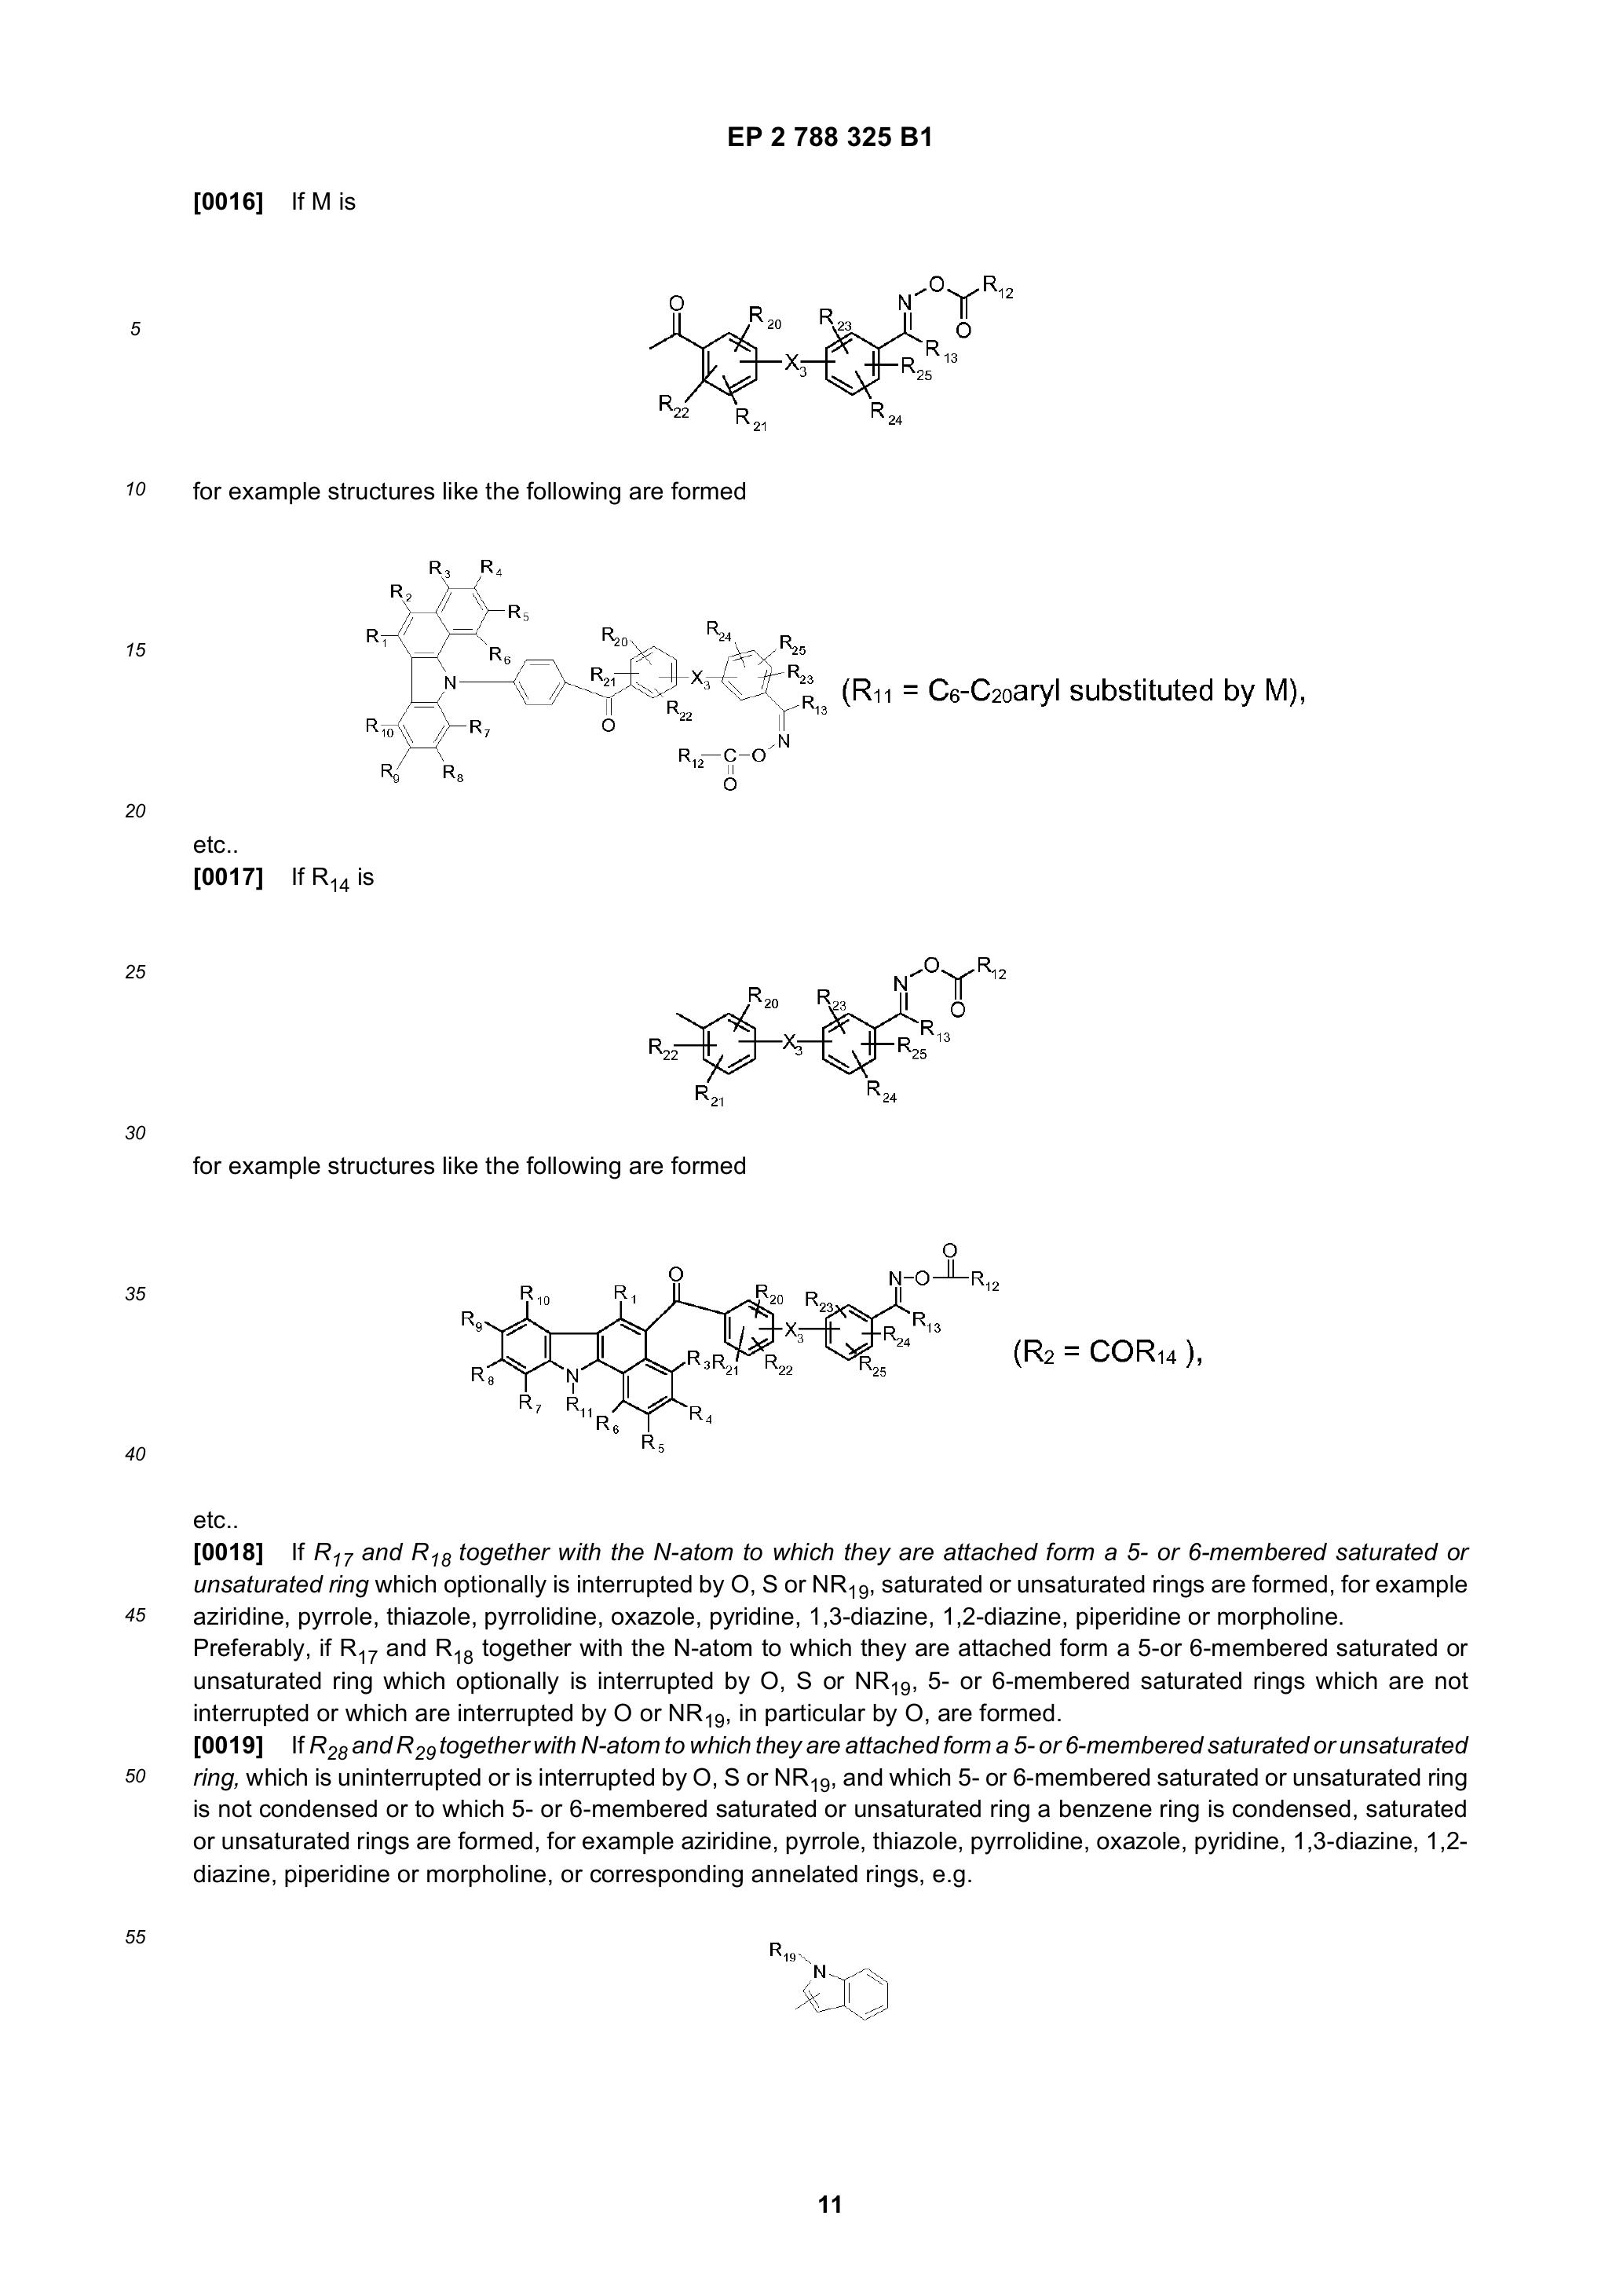markush-structures: (351, 529, 822, 806), (441, 1230, 1005, 1458), (625, 935, 1035, 1151), (638, 239, 1031, 434), (722, 1931, 940, 2052)
